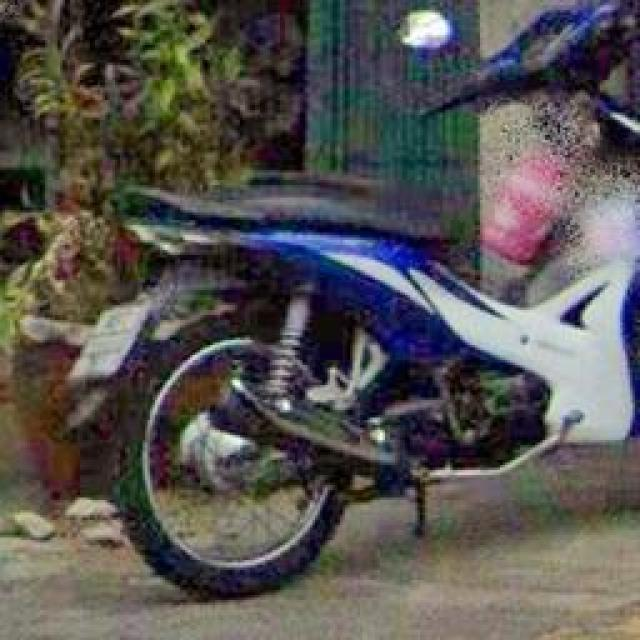motorbike: (123, 0, 640, 608)
